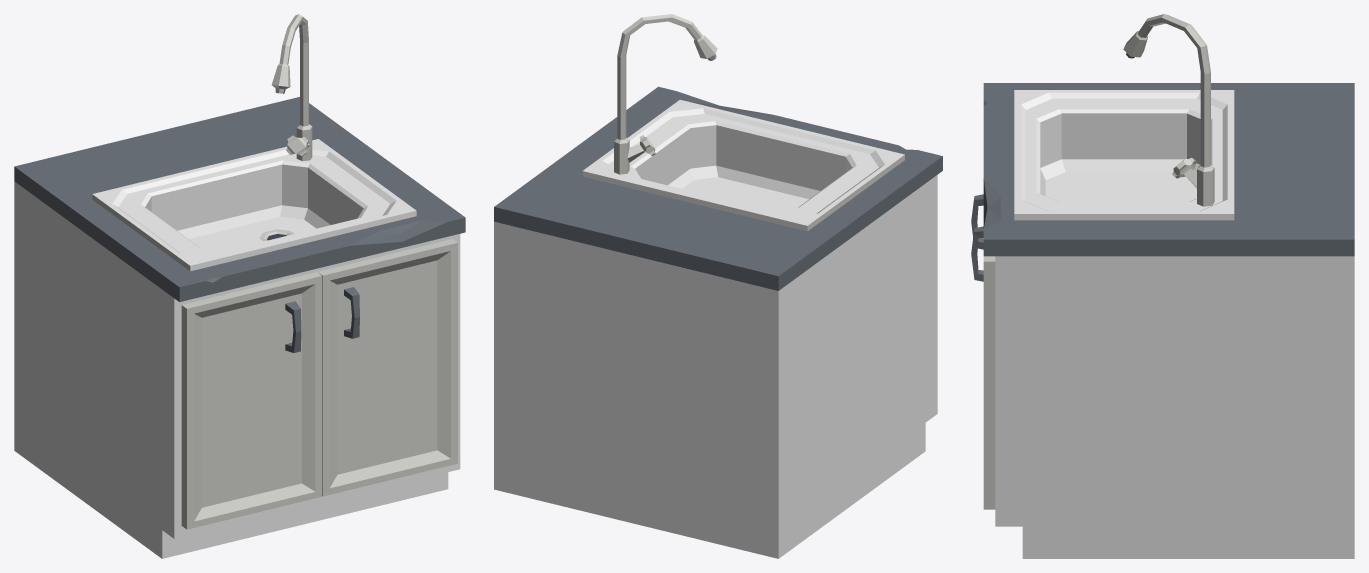
The model's file is Kitchen_CounterSink.FBX.
The picture shows the model from 3 angles, left to right: view 1: azimuth 30°, elevation 25°; view 2: azimuth 150°, elevation 25°; view 3: azimuth 270°, elevation 25°; orthographic projection. The views are drawn at different scales.
Visible parts, largest first — view 1: Kitchen_CounterSink; view 2: Kitchen_CounterSink; view 3: Kitchen_CounterSink.
Boxes of the visible parts, bbox=[...] form: Kitchen_CounterSink: bbox=[14, 14, 465, 558]; Kitchen_CounterSink: bbox=[494, 14, 942, 558]; Kitchen_CounterSink: bbox=[971, 14, 1354, 558].
Bounding box in the file's own units: 100 × 147 × 103.
